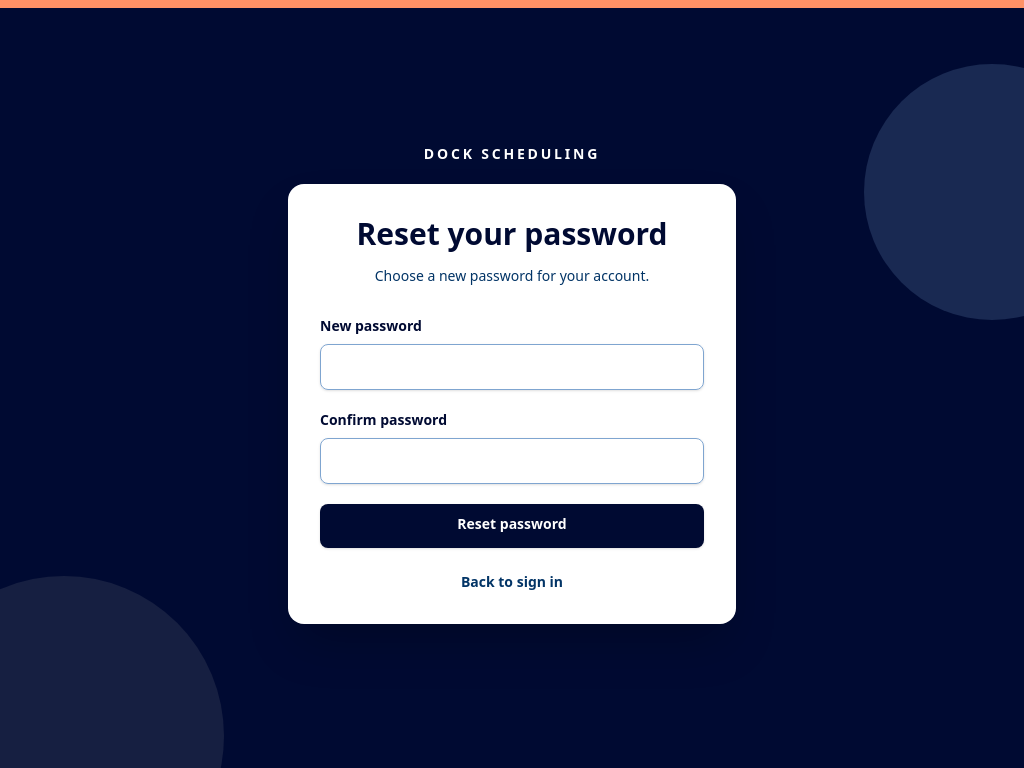
it: ResetPasswordPage › requires password confirmation
Step 1. Type "simple phrase" into the password field labelled "New password" → (512, 367), box [320,344,704,390]
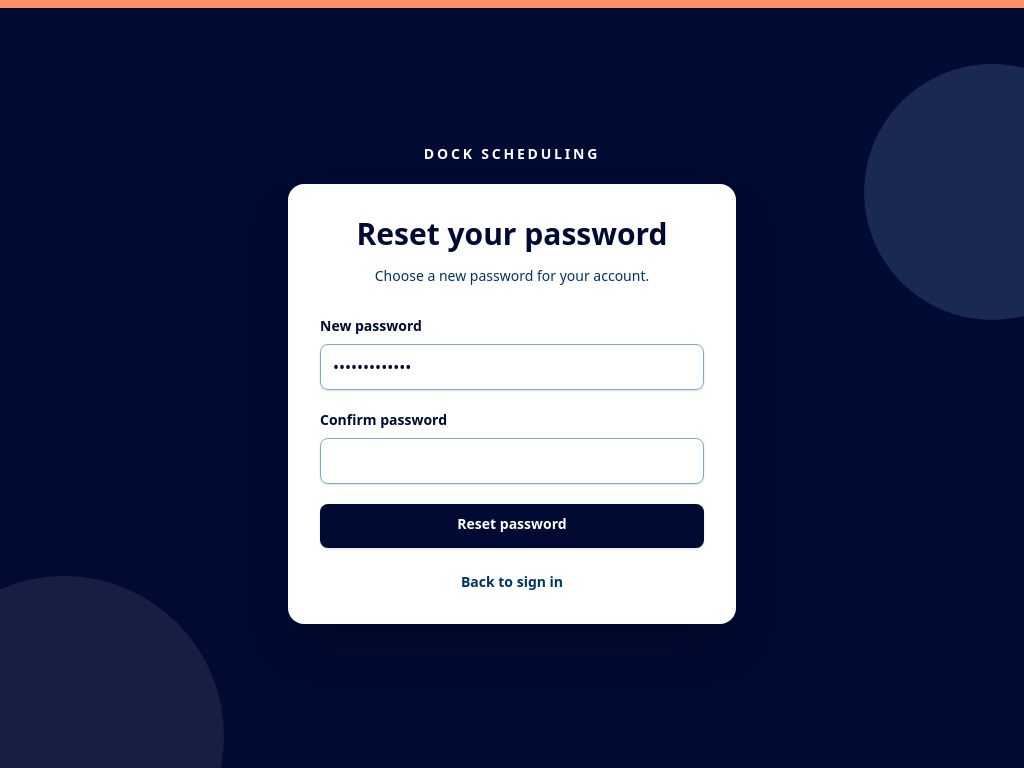
Step 2. Click the button "Reset password" → (512, 526), box [320,504,704,548]
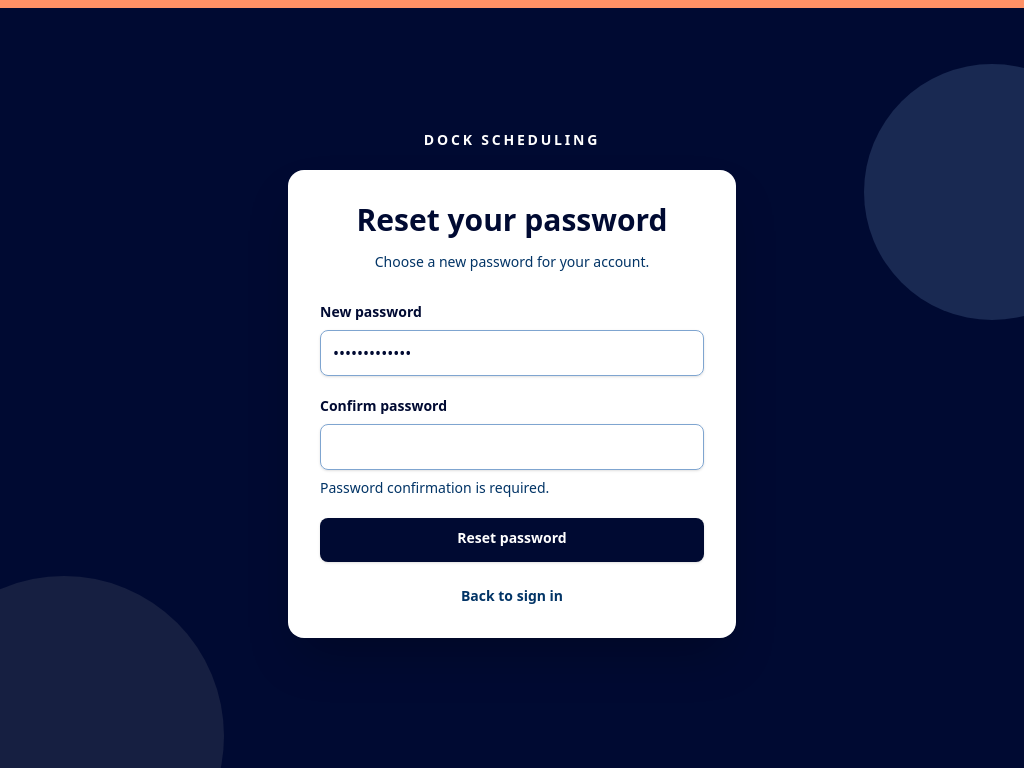
Expected: the text "Password confirmation is required." is shown, [320,478,549,497]
